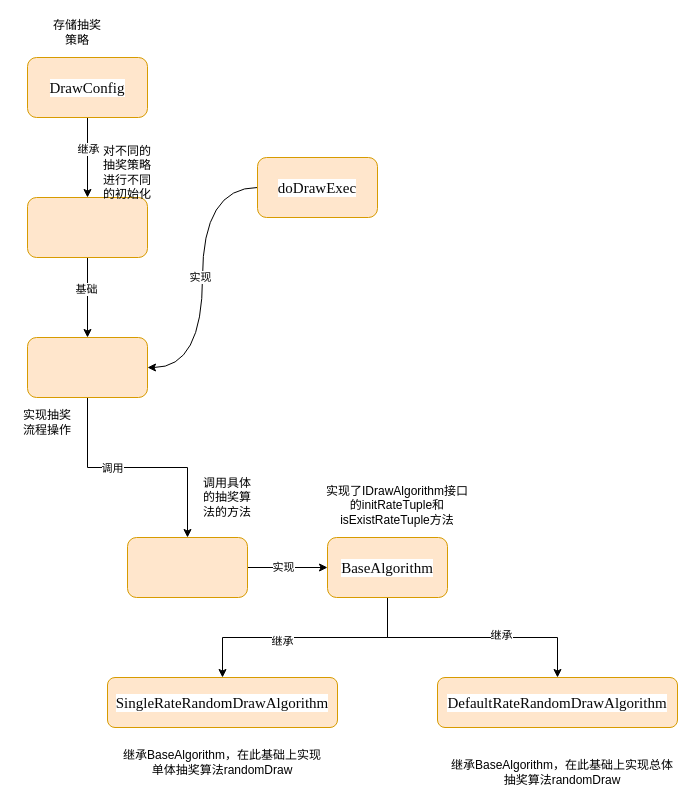
Image size: 695x804. Some labels were removed from this diagram. The centre of each missing label's shape, as x and y in pixels:
DrawBase: the point at 87,227
DrawExecImpl: the point at 87,367
IDrawAlgorithm: the point at 187,567
